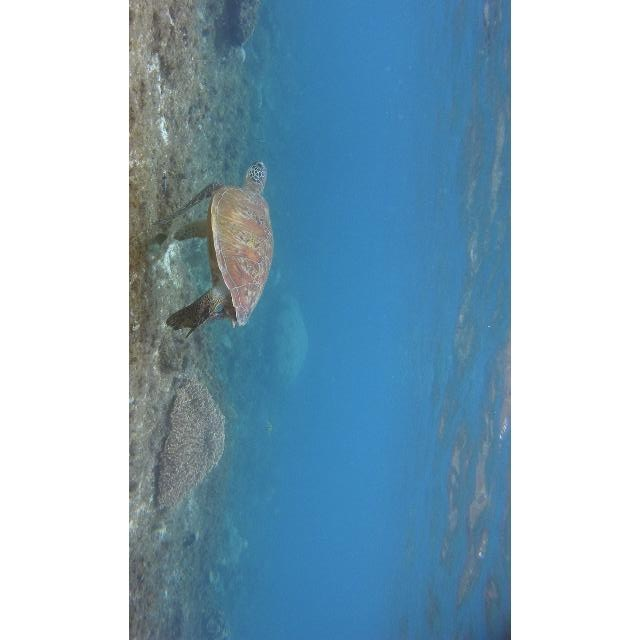turtle: (153, 158, 275, 338)
